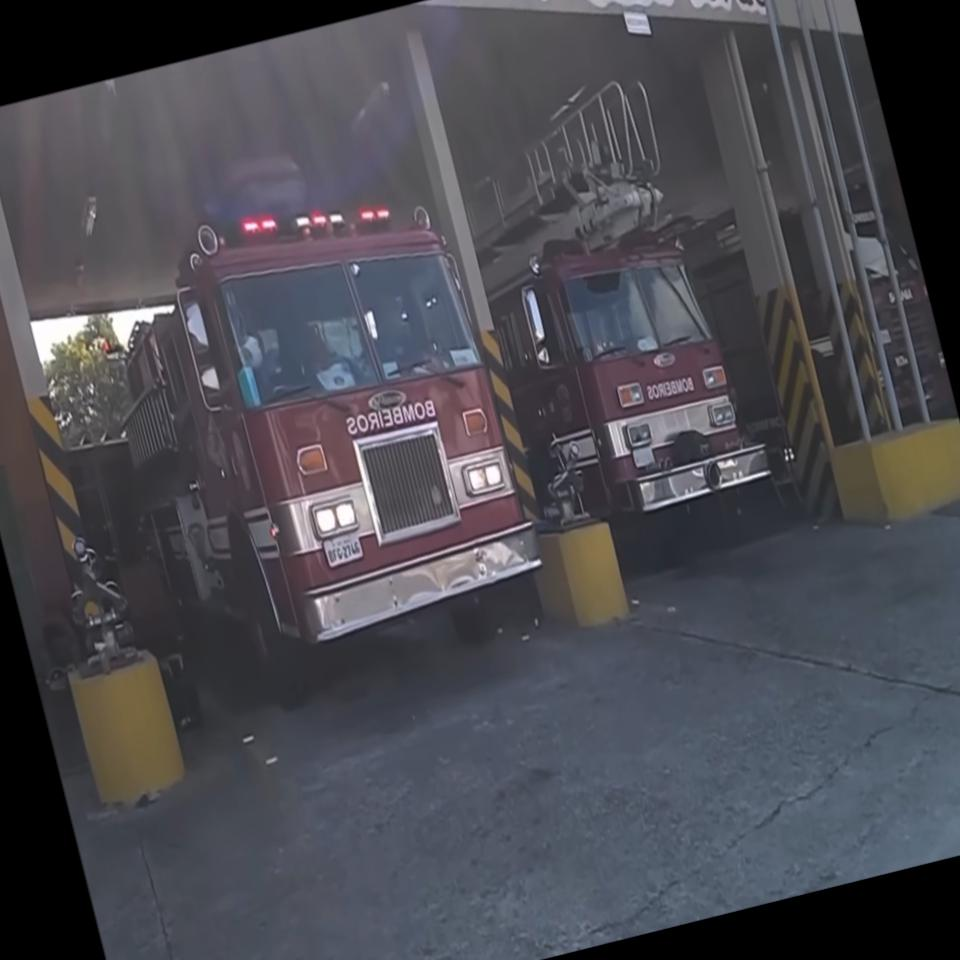viatura: (63, 114, 564, 733), (447, 65, 789, 584)
